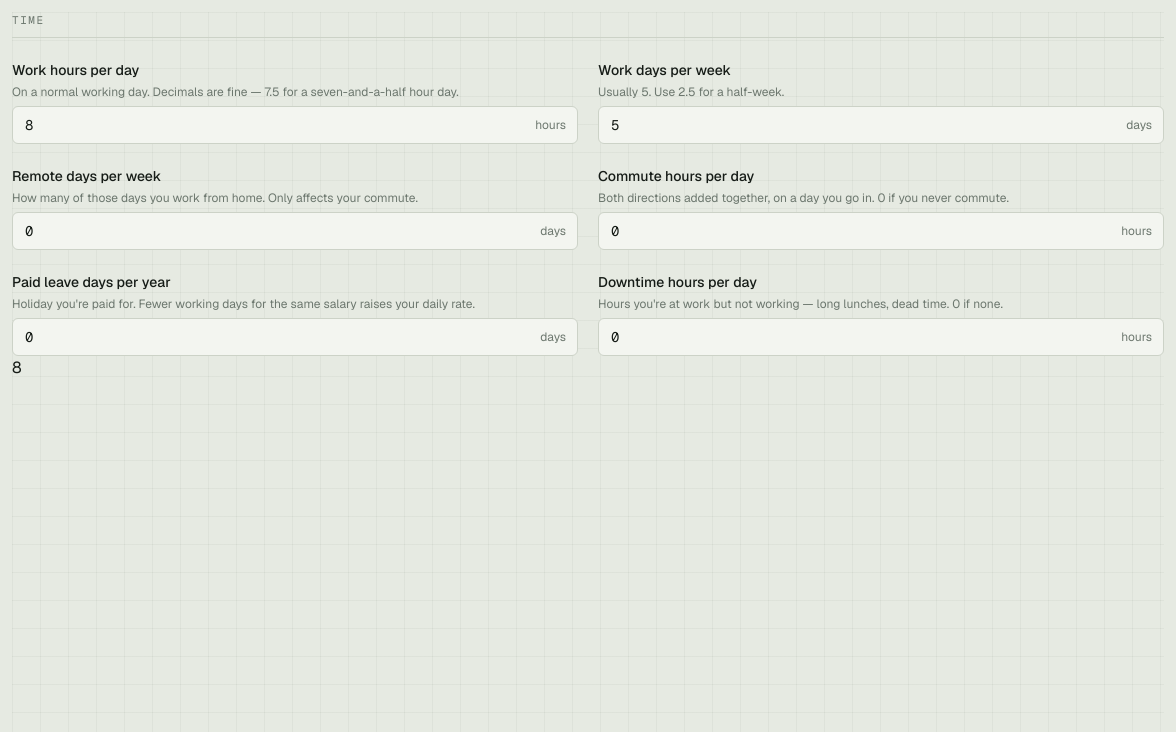
Test: NumberField under a real controlled parent › leaves unparseable input visible and reports it as NaN
The image size is (1176, 732).
Replace the text in the field labelled "Work hours per day" with "7e": (295, 124) [12,106,578,144]
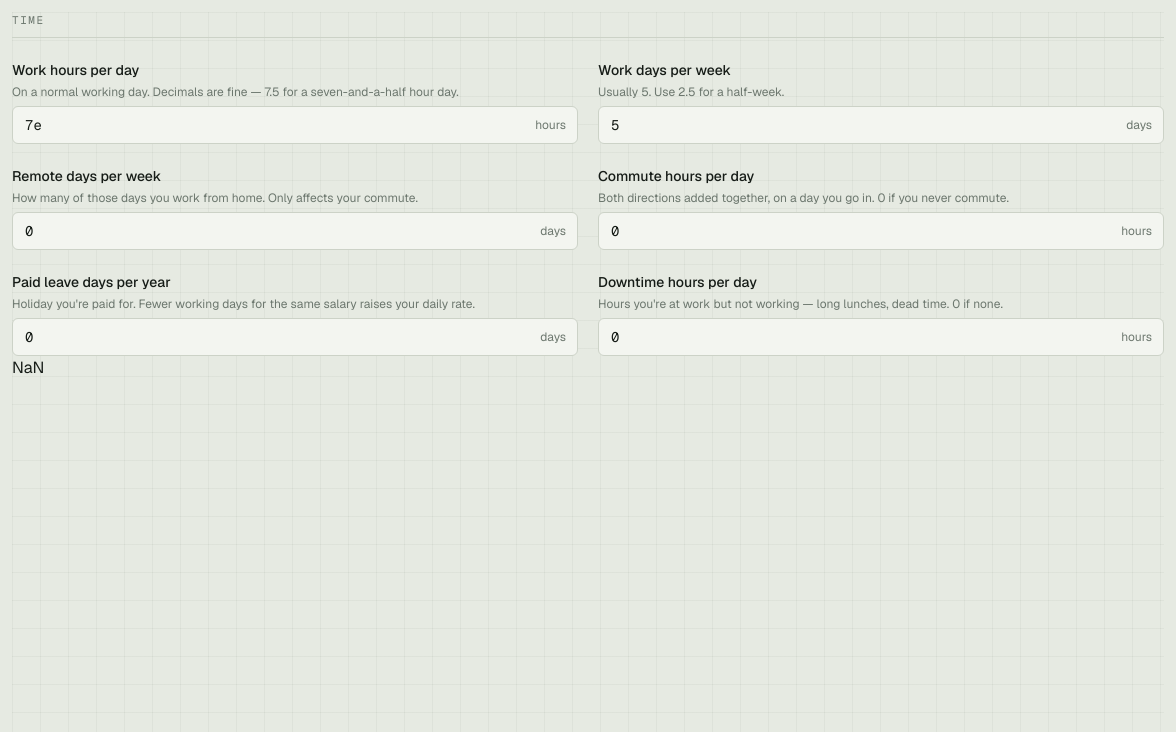
Check: the text with test id "hours" reads "NaN", box [12,356,44,378]
